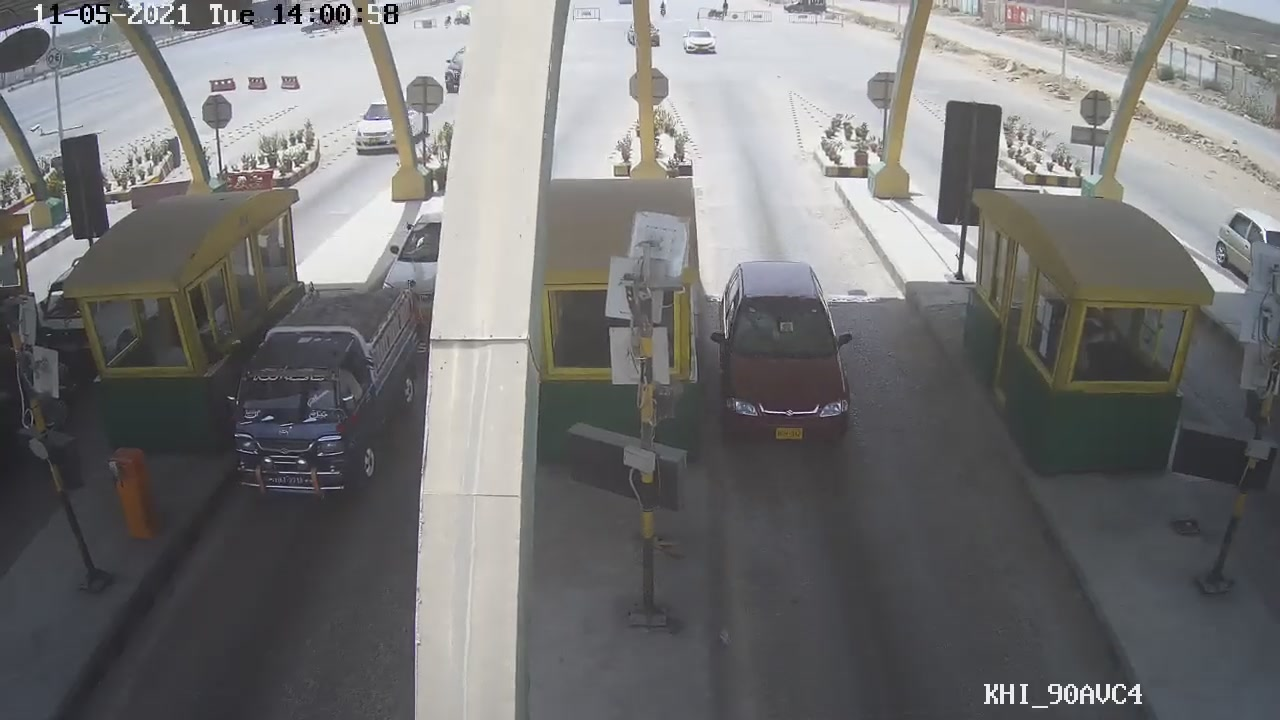F1: (704, 259, 887, 458)
